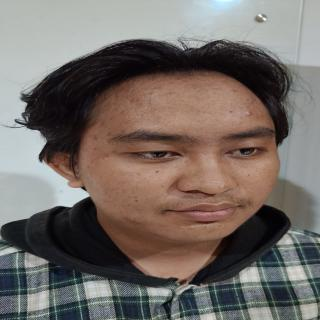Netral: (77, 64, 292, 250)
